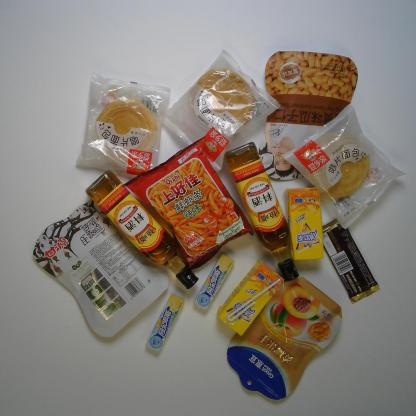Candy: (148, 294, 194, 358), (194, 254, 232, 313)
Chocolate: (319, 216, 379, 306)
Dessert: (282, 100, 400, 228), (161, 48, 279, 168), (77, 72, 170, 174)
Dried Fruit: (27, 194, 169, 342), (228, 274, 344, 398), (261, 49, 361, 183)
Drink: (220, 259, 284, 338), (282, 188, 330, 269)
Puffed Food: (122, 140, 247, 265)
Seasoner: (85, 170, 201, 292), (222, 144, 303, 283)
